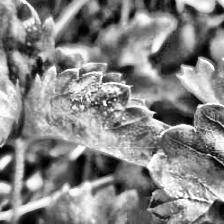Powdery Mildew Leaf: (20, 47, 175, 167), (145, 89, 224, 224), (0, 0, 56, 96)
